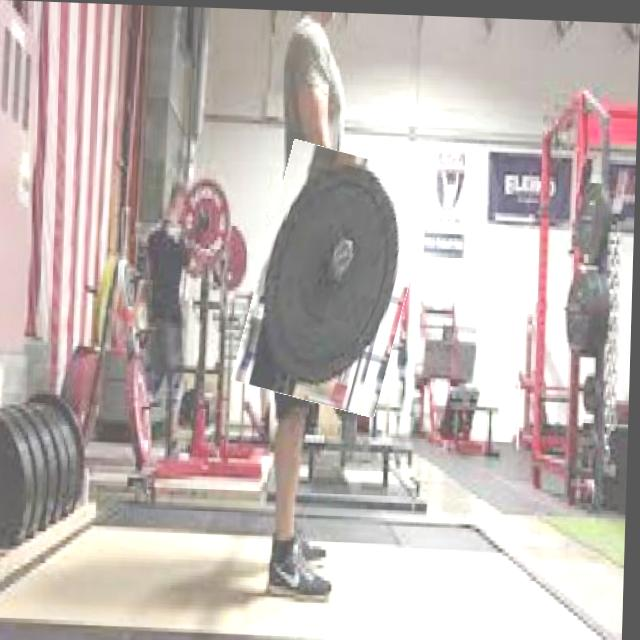barbell: (247, 143, 426, 410)
